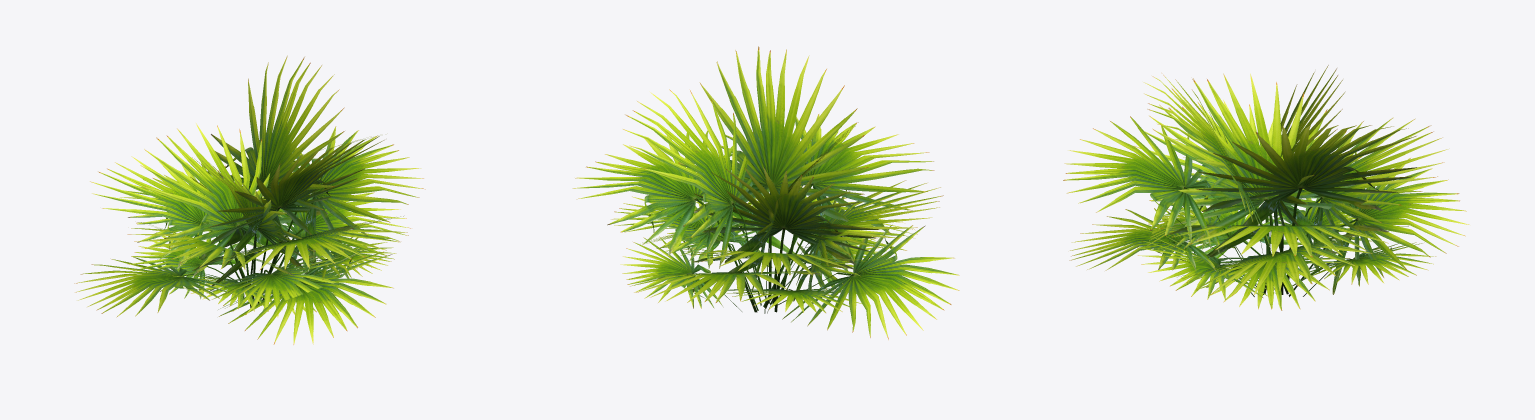
The model's file is tropical_palm.glb.
3 renders of one model, left to right at view 1: azimuth 30°, elevation 25°; view 2: azimuth 150°, elevation 25°; view 3: azimuth 270°, elevation 25°, orthographic. The views are drawn at different scales.
Visible parts, largest first — view 1: Plant alpha 2; view 2: Plant alpha 2; view 3: Plant alpha 2.
Part boxes in pixels (bbox=[...]): Plant alpha 2: bbox=[74, 55, 425, 344]; Plant alpha 2: bbox=[572, 46, 959, 339]; Plant alpha 2: bbox=[1063, 65, 1469, 310].
Bounding box in the file's own units: 3.71 × 2.84 × 3.71.
1 material, 1 textured.
